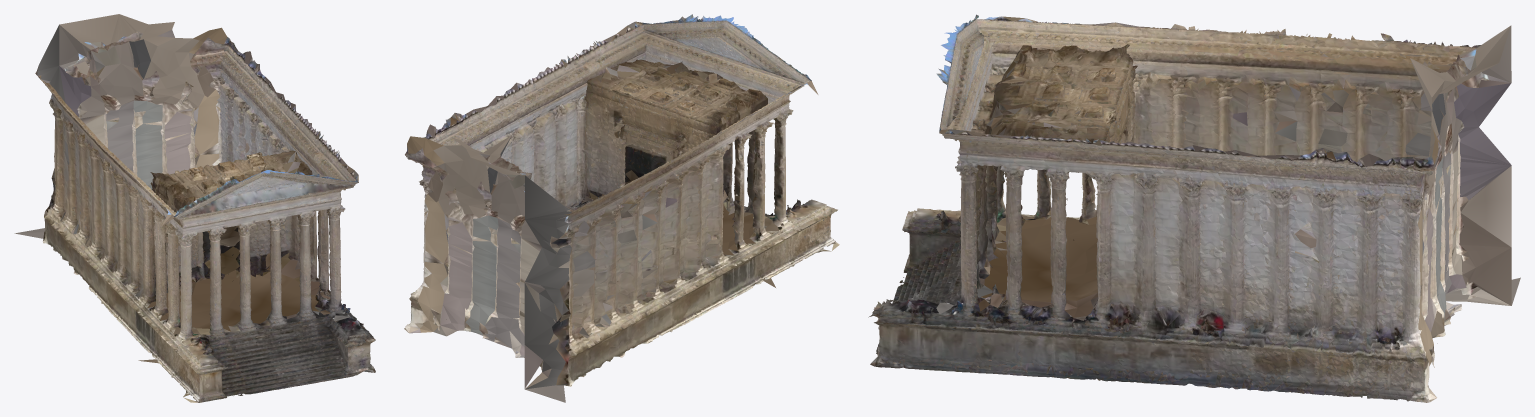
Rendered from maison-carree.glb.
3 views of the same model, side by side, from view 1: azimuth 30°, elevation 25°; view 2: azimuth 150°, elevation 25°; view 3: azimuth 270°, elevation 25° (orthographic). The views are drawn at different scales.
Visible parts, largest first — view 1: Object_2; view 2: Object_2; view 3: Object_2.
Part boxes in pixels (box(x1,y1,x2,y2)): Object_2: box(14, 14, 375, 402); Object_2: box(404, 14, 839, 402); Object_2: box(868, 14, 1520, 402).
Size of the model in its own units: 15.38 by 12.89 by 27.06.
1 material, 1 textured.
